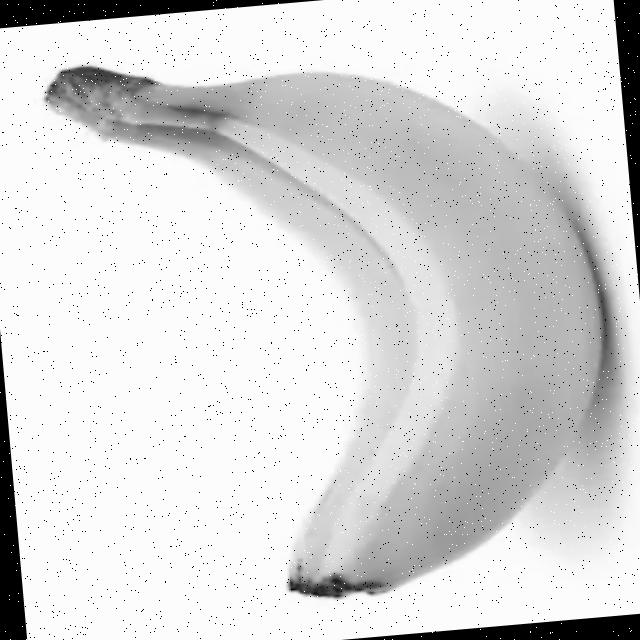Ripe: (132, 45, 633, 615)
